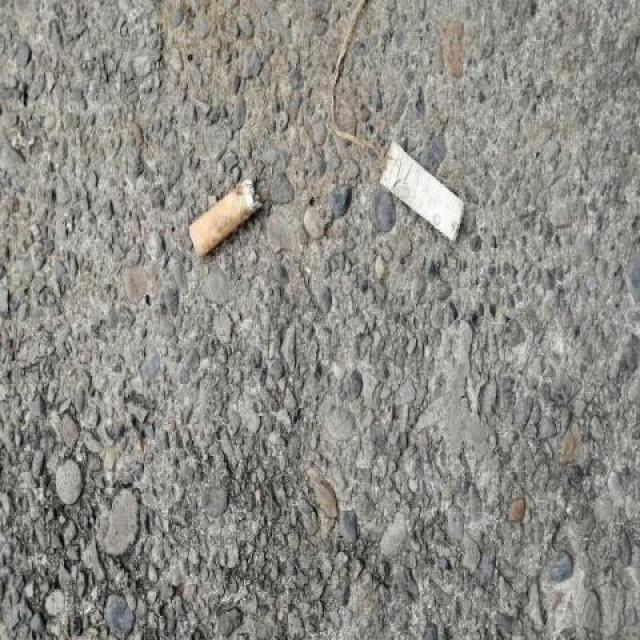non-organic waste: (376, 136, 468, 247), (185, 173, 267, 263)
